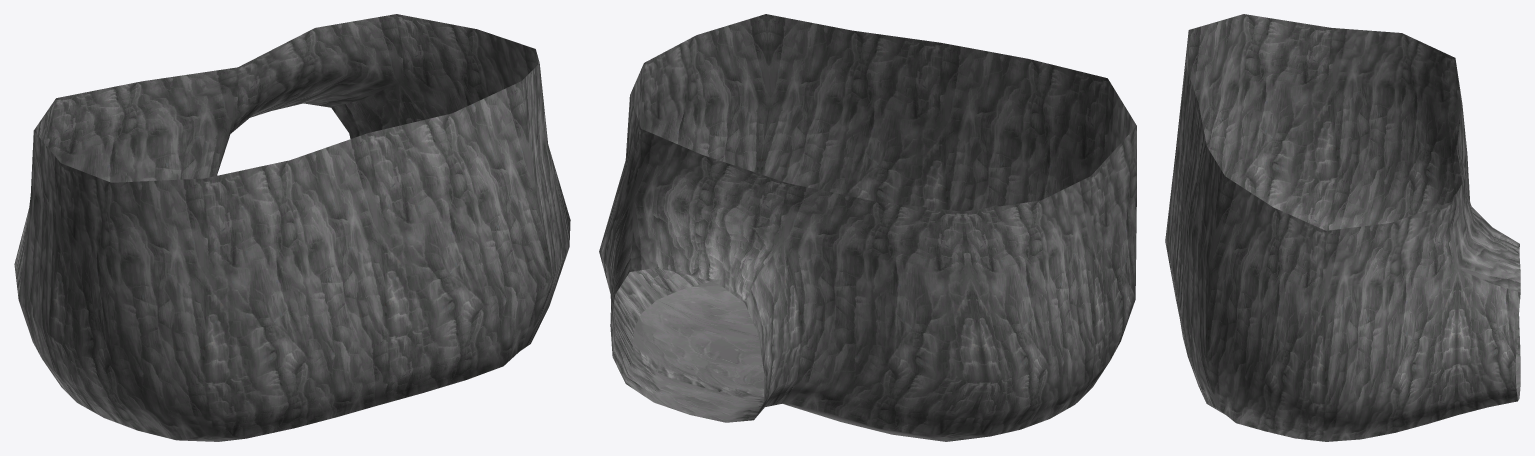
File: SWORDLIGHT20_PS-AREA03-04TRANS_02.fbx
3 views of the same model, side by side, from view 1: azimuth 30°, elevation 25°; view 2: azimuth 150°, elevation 25°; view 3: azimuth 270°, elevation 25° (orthographic). The views are drawn at different scales.
Visible parts, largest first — view 1: SWORDLIGHT20_PS-AREA03-04TRANS_02; view 2: SWORDLIGHT20_PS-AREA03-04TRANS_02; view 3: SWORDLIGHT20_PS-AREA03-04TRANS_02.
Boxes of the visible parts, x1,y1,x2,y2 form: SWORDLIGHT20_PS-AREA03-04TRANS_02: [14, 14, 570, 441]; SWORDLIGHT20_PS-AREA03-04TRANS_02: [599, 14, 1136, 441]; SWORDLIGHT20_PS-AREA03-04TRANS_02: [1165, 14, 1520, 441].
Size of the model in its own units: 215296 by 114506 by 145609.
Materials: 3 (3 with a texture image).
